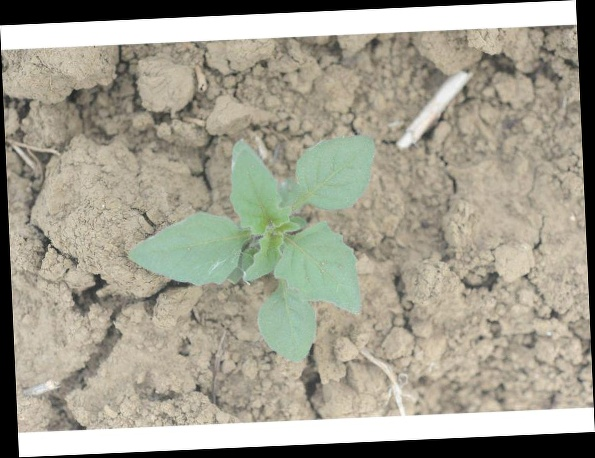nightshade: (130, 136, 379, 367)
